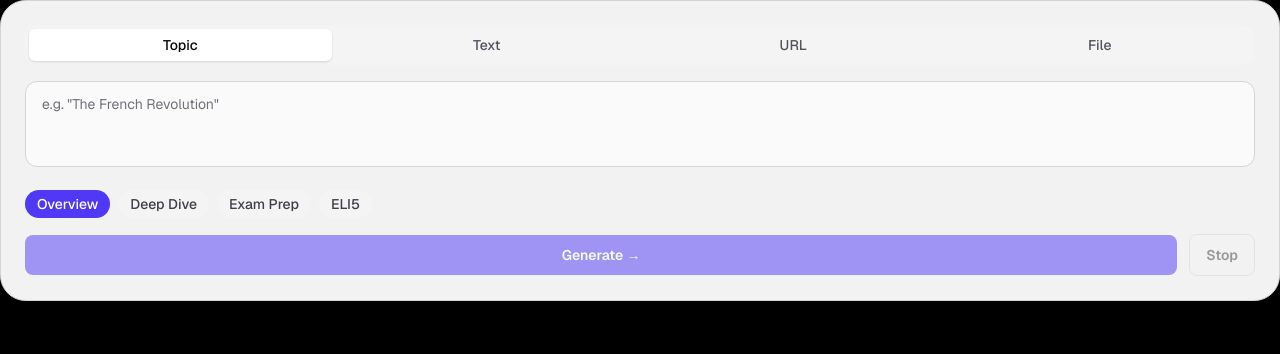
Test: PromptBox › shows error message on network failure
Step 1. Type "DNA replication" into the text box with test id "prompt-input" → x=640, y=124, box [25,81,1255,167]
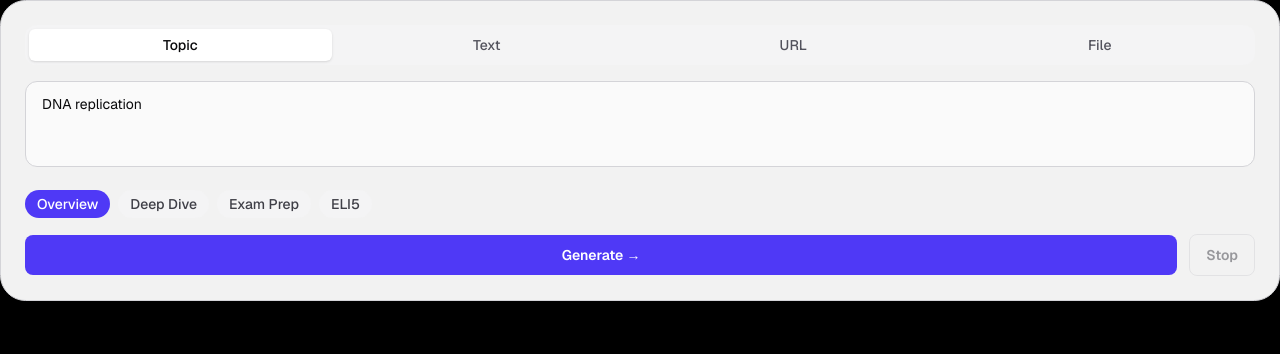
Step 2. Click the button with test id "generate-button" → x=601, y=255, box [25,235,1177,275]
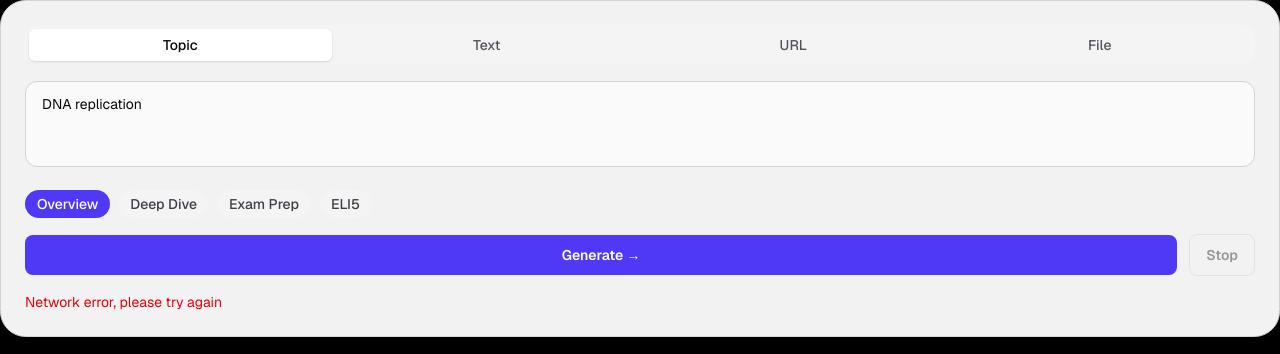
Expected: the message "Network error, please try again" is shown, [25,293,222,311]
